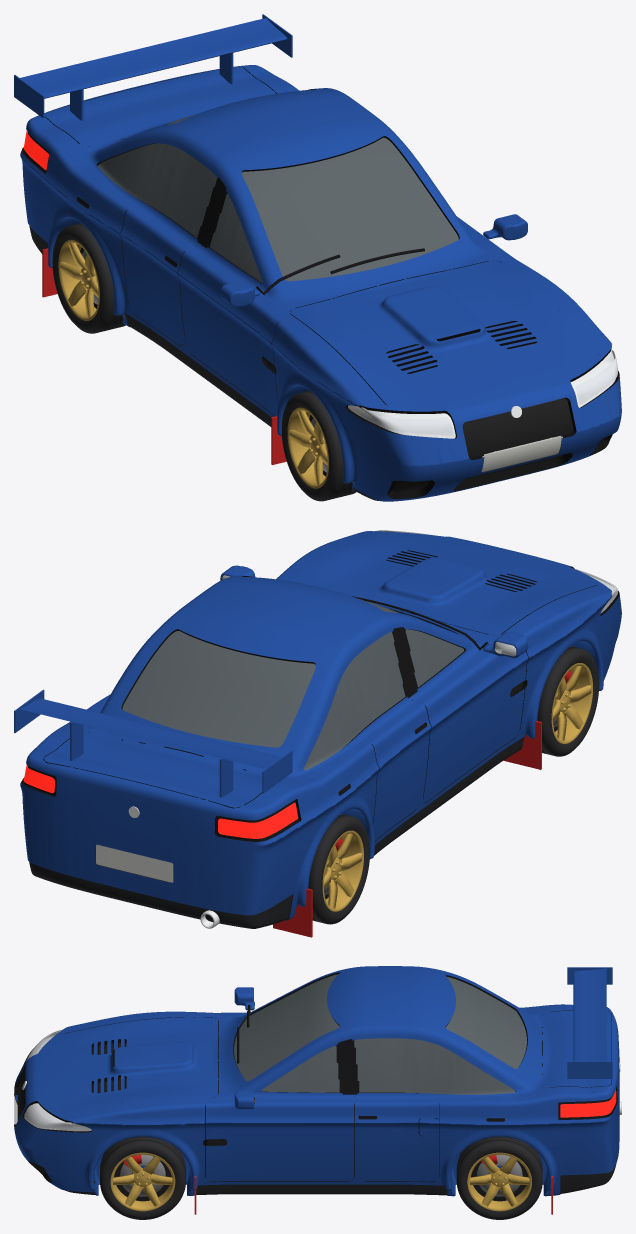
The model's file is hoshida-kiri-rs.fbx.
3 views of the same model, one above another, from view 1: azimuth 30°, elevation 25°; view 2: azimuth 150°, elevation 25°; view 3: azimuth 270°, elevation 25° (orthographic). The views are drawn at different scales.
Parts seen in each view (by area): view 1: Body_LOD0, Glass_LOD0, Wing_LOD0, Walls_LOD0, Wheel_FR_LOD0, Wheel_RR_LOD0, Grille_LOD0, HeadlightLens_LOD0, Trim_LOD0, Plate_LOD0, Chrome_LOD0, Gloss_LOD0 (+1 smaller); view 2: Body_LOD0, Glass_LOD0, Wing_LOD0, Trim_LOD0, Wheel_RR_LOD0, Wheel_FR_LOD0, Walls_LOD0, TaillightLens_LOD0, Gloss_LOD0, MudFlaps_LOD0, Plate_LOD0; view 3: Body_LOD0, Glass_LOD0, Wheel_RL_LOD0, Wheel_FL_LOD0, Wing_LOD0, Trim_LOD0, Walls_LOD0, Gloss_LOD0, TaillightLens_LOD0, Grille_LOD0, HeadlightLens_LOD0, Chrome_LOD0 (+1 smaller).
Part boxes in pixels (left/top/right/bottom): Body_LOD0: left=20, top=65, right=621, bottom=501; Glass_LOD0: left=97, top=114, right=458, bottom=282; Wing_LOD0: left=14, top=14, right=292, bottom=120; Walls_LOD0: left=22, top=66, right=619, bottom=498; Wheel_FR_LOD0: left=281, top=391, right=356, bottom=501; Wheel_RR_LOD0: left=52, top=223, right=125, bottom=333; Grille_LOD0: left=265, top=358, right=604, bottom=491; HeadlightLens_LOD0: left=360, top=350, right=617, bottom=435; Trim_LOD0: left=29, top=225, right=378, bottom=500; Plate_LOD0: left=481, top=436, right=562, bottom=471; Chrome_LOD0: left=348, top=349, right=615, bottom=438; Gloss_LOD0: left=24, top=132, right=227, bottom=266; Body_LOD0: left=20, top=531, right=621, bottom=919; Glass_LOD0: left=122, top=599, right=464, bottom=770; Wing_LOD0: left=14, top=689, right=292, bottom=797; Trim_LOD0: left=29, top=737, right=524, bottom=928; Wheel_RR_LOD0: left=308, top=814, right=369, bottom=924; Wheel_FR_LOD0: left=537, top=646, right=598, bottom=756; Walls_LOD0: left=22, top=533, right=619, bottom=920; TaillightLens_LOD0: left=23, top=765, right=298, bottom=838; Gloss_LOD0: left=24, top=627, right=426, bottom=841; MudFlaps_LOD0: left=273, top=721, right=541, bottom=937; Plate_LOD0: left=96, top=844, right=173, bottom=882; Body_LOD0: left=14, top=966, right=619, bottom=1196; Glass_LOD0: left=234, top=974, right=526, bottom=1094; Wheel_RL_LOD0: left=456, top=1136, right=542, bottom=1219; Wheel_FL_LOD0: left=100, top=1136, right=185, bottom=1219; Wing_LOD0: left=567, top=967, right=612, bottom=1078; Trim_LOD0: left=65, top=1164, right=616, bottom=1195; Walls_LOD0: left=14, top=972, right=619, bottom=1187; Gloss_LOD0: left=335, top=1039, right=613, bottom=1121; TaillightLens_LOD0: left=560, top=1089, right=616, bottom=1117; Grille_LOD0: left=17, top=1042, right=226, bottom=1183; HeadlightLens_LOD0: left=24, top=1029, right=73, bottom=1129; Chrome_LOD0: left=24, top=1032, right=91, bottom=1131.
Size of what is drawn, in the model's own units: 1.99 by 1.48 by 4.52.
